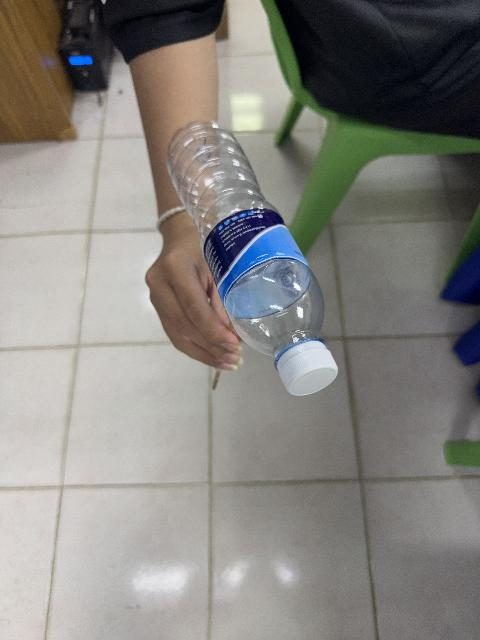bottle: (168, 122, 337, 395)
